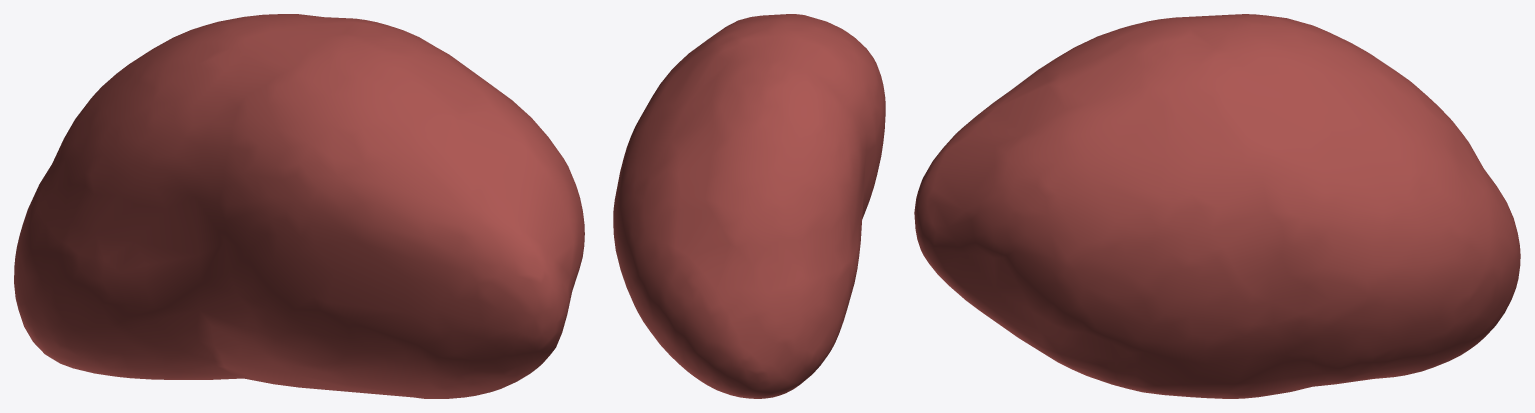
Rendered from FMA258714.glb.
3 renders of one model, left to right at view 1: azimuth 30°, elevation 25°; view 2: azimuth 150°, elevation 25°; view 3: azimuth 270°, elevation 25°, orthographic. The views are drawn at different scales.
Parts seen in each view (by area): view 1: FMA258714; view 2: FMA258714; view 3: FMA258714.
Part boxes in pixels (x1=…): FMA258714: x1=14, y1=14, x2=584, y2=398; FMA258714: x1=613, y1=14, x2=885, y2=398; FMA258714: x1=914, y1=14, x2=1520, y2=398.
Bounding box in the file's own units: 0.0222 × 0.0224 × 0.0345.
